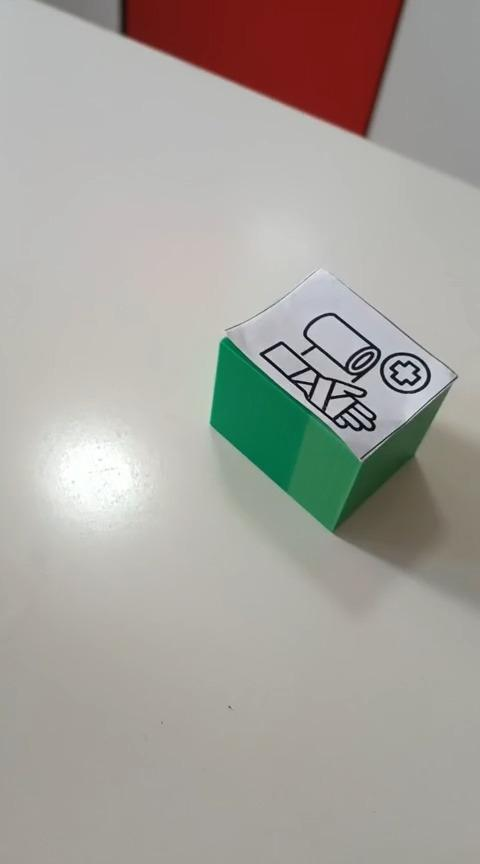Bandages: (208, 265, 458, 533)
